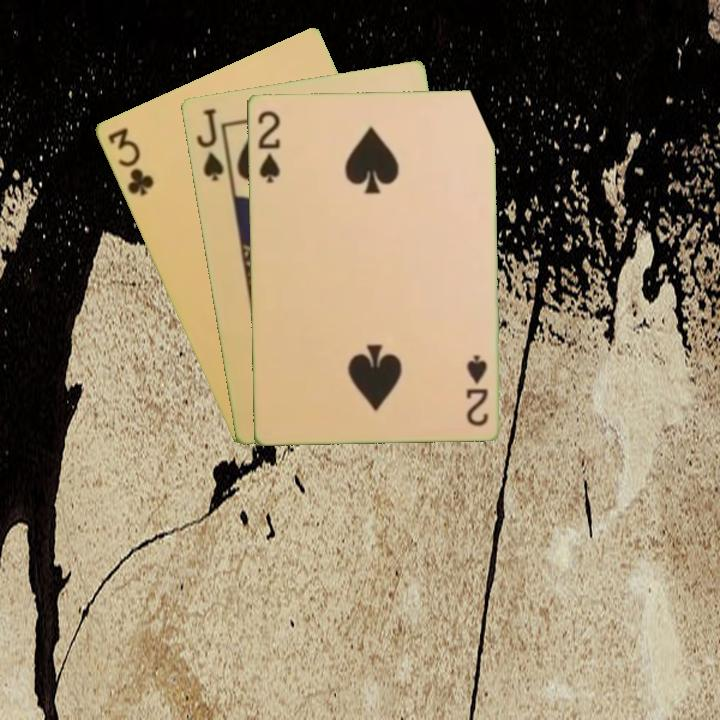2s: (254, 106, 283, 186), (462, 351, 491, 429)
3c: (103, 124, 157, 199)
Js: (192, 104, 226, 184)
